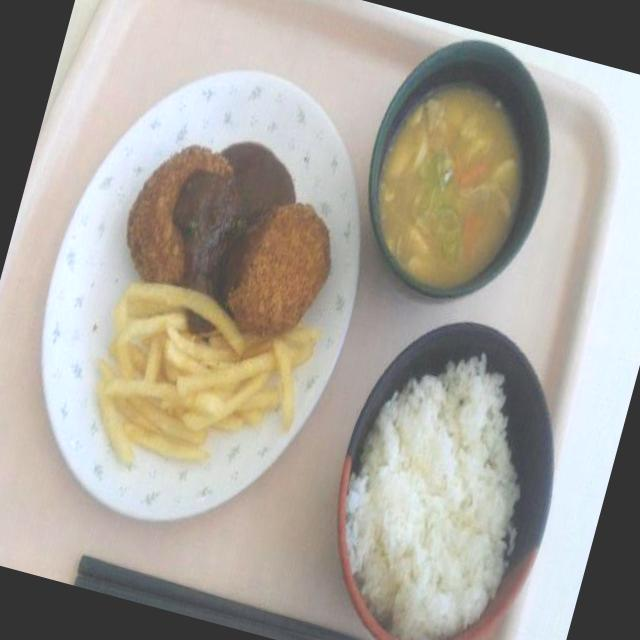Rice: (346, 324, 567, 585)
